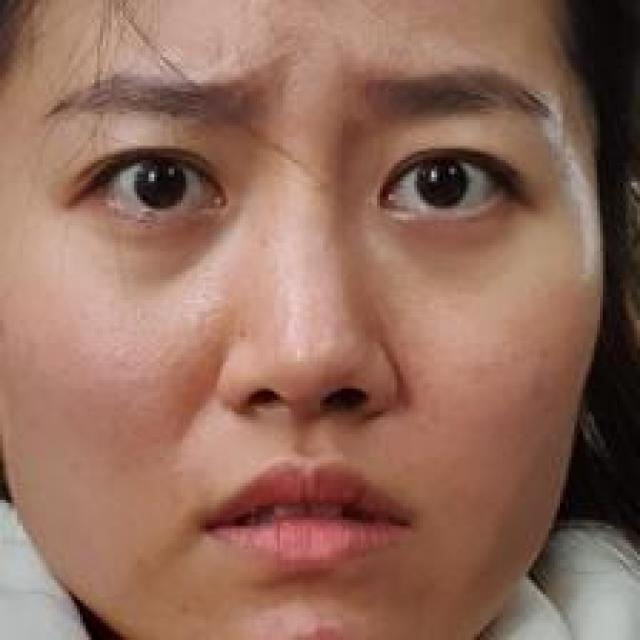fear: (35, 54, 562, 596)
